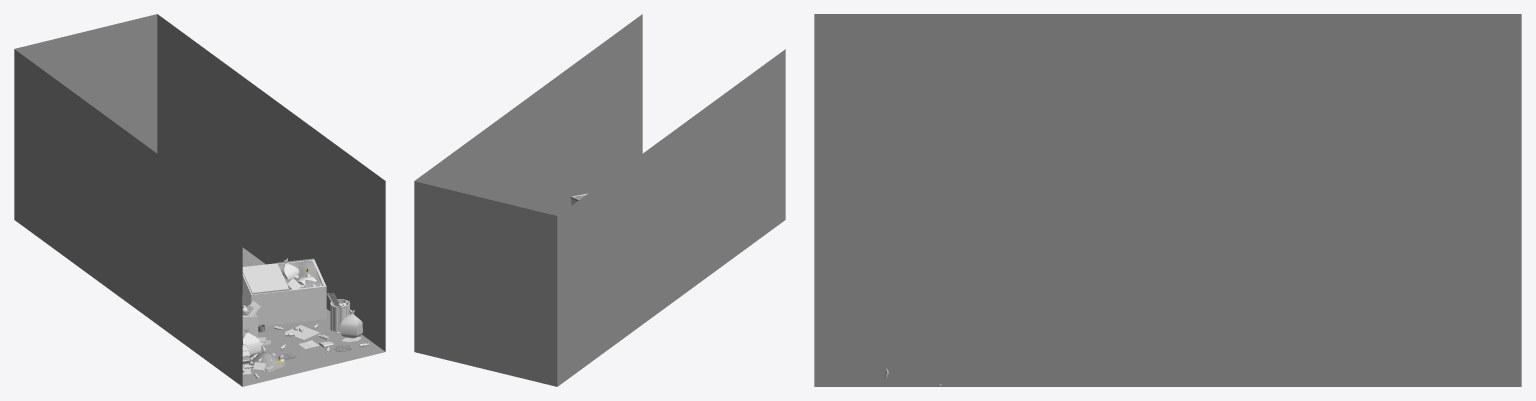
The model's file is SM_RatMiniGame.fbx.
3 views of the same model, side by side, from view 1: azimuth 30°, elevation 25°; view 2: azimuth 150°, elevation 25°; view 3: azimuth 270°, elevation 25° (orthographic). The views are drawn at different scales.
Parts seen in each view (by area): view 1: SM_RatMiniGame, SM_TrashPile; view 2: SM_RatMiniGame; view 3: SM_RatMiniGame.
Boxes of the visible parts, x1,y1,x2,y2 form: SM_RatMiniGame: (14, 14, 385, 386); SM_TrashPile: (249, 350, 285, 371); SM_RatMiniGame: (414, 14, 785, 386); SM_RatMiniGame: (814, 14, 1521, 386).
Bounding box in the file's own units: 515 × 592 × 1415.
